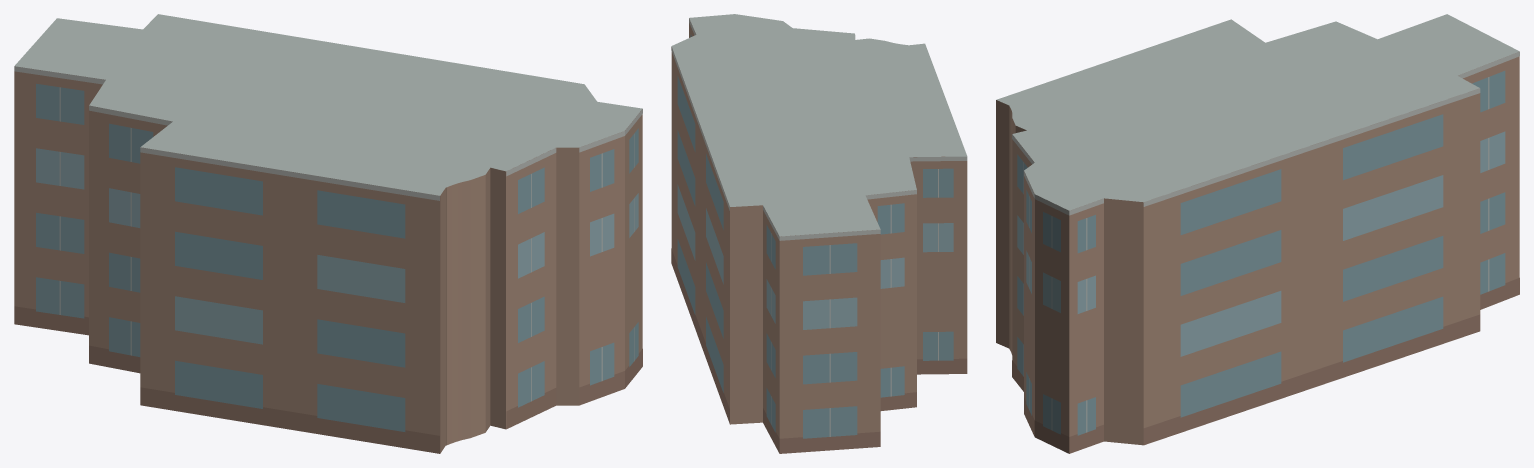
Rendered from survey-upis-33042511.glb.
3 views of the same model, side by side, from view 1: azimuth 30°, elevation 25°; view 2: azimuth 150°, elevation 25°; view 3: azimuth 270°, elevation 25° (orthographic). The views are drawn at different scales.
Parts seen in each view (by area): view 1: survey-upis-33042511.tmp; view 2: survey-upis-33042511.tmp; view 3: survey-upis-33042511.tmp.
Boxes of the visible parts, bbox=[...] form: survey-upis-33042511.tmp: bbox=[14, 14, 642, 453]; survey-upis-33042511.tmp: bbox=[671, 14, 967, 453]; survey-upis-33042511.tmp: bbox=[996, 14, 1519, 453].
Bounding box in the file's own units: 21.19 × 12.2 × 23.82.
